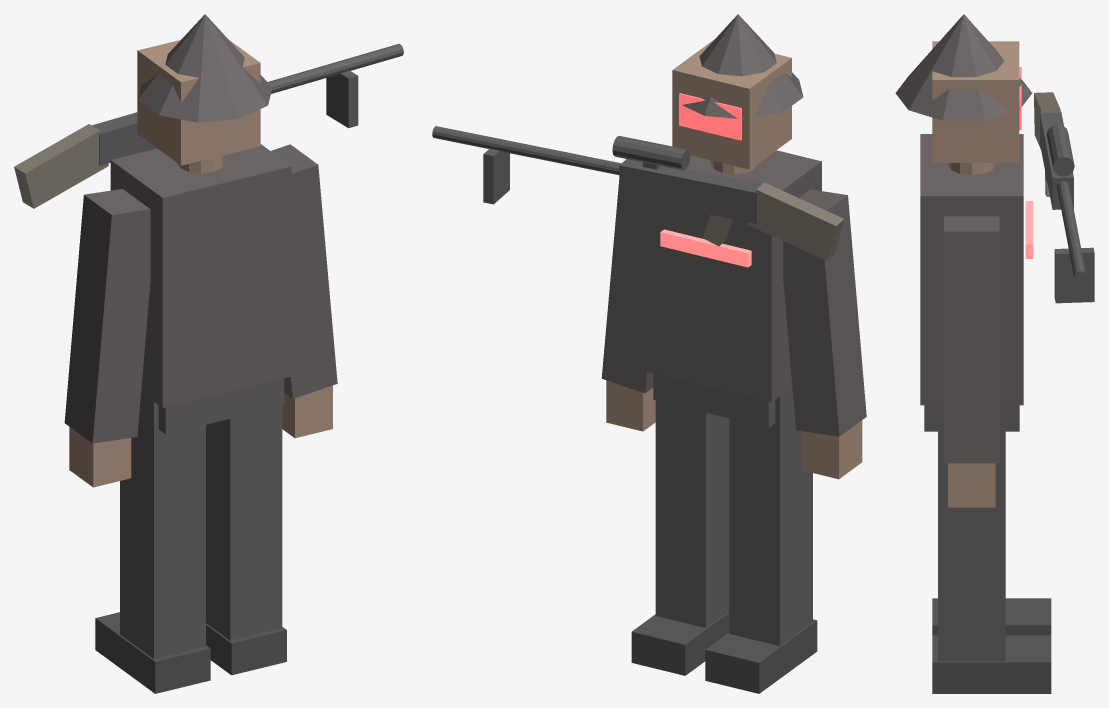
Rendered from guard_reaper.glb.
3 views of the same model, side by side, from view 1: azimuth 30°, elevation 25°; view 2: azimuth 150°, elevation 25°; view 3: azimuth 270°, elevation 25° (orthographic). The views are drawn at different scales.
Visible parts, largest first — view 1: guard_reaper_torso, guard_reaper_leg_L, guard_reaper_arm_L, guard_reaper_leg_R, guard_reaper_arm_R, guard_reaper_hood, guard_reaper_head, guard_reaper_shoe_L, reaper_rifle_stock, guard_reaper_pelvis, guard_reaper_shoe_R, guard_reaper_hand_L (+4 smaller); view 2: guard_reaper_torso, guard_reaper_leg_L, guard_reaper_leg_R, guard_reaper_arm_L, guard_reaper_head, guard_reaper_arm_R, reaper_rifle_body, guard_reaper_hood, guard_reaper_shoe_L, reaper_rifle_stock, guard_reaper_shoe_R, guard_reaper_pelvis (+8 smaller); view 3: guard_reaper_torso, guard_reaper_arm_R, guard_reaper_leg_R, guard_reaper_head, guard_reaper_hood, guard_reaper_shoe_R, guard_reaper_hand_R, guard_reaper_shoe_L, reaper_rifle_bipod, reaper_rifle_barrel, reaper_rifle_body, reaper_rifle_scope (+4 smaller).
Part boxes in pixels (x1=…): guard_reaper_torso: x1=110, y1=144, x2=291, y2=407; guard_reaper_leg_L: x1=120, y1=392, x2=205, y2=659; guard_reaper_arm_L: x1=64, y1=189, x2=150, y2=443; guard_reaper_leg_R: x1=206, y1=406, x2=282, y2=640; guard_reaper_arm_R: x1=271, y1=144, x2=337, y2=398; guard_reaper_hood: x1=137, y1=14, x2=272, y2=122; guard_reaper_head: x1=137, y1=39, x2=260, y2=165; guard_reaper_shoe_L: x1=95, y1=612, x2=210, y2=693; reaper_rifle_stock: x1=14, y1=124, x2=108, y2=208; guard_reaper_pelvis: x1=158, y1=378, x2=284, y2=434; guard_reaper_shoe_R: x1=206, y1=623, x2=286, y2=675; guard_reaper_hand_L: x1=69, y1=427, x2=131, y2=487; guard_reaper_torso: x1=646, y1=150, x2=821, y2=402; guard_reaper_leg_L: x1=729, y1=387, x2=812, y2=645; guard_reaper_leg_R: x1=655, y1=400, x2=729, y2=627; guard_reaper_arm_L: x1=783, y1=189, x2=866, y2=436; guard_reaper_head: x1=672, y1=39, x2=791, y2=169; guard_reaper_arm_R: x1=601, y1=180, x2=653, y2=393; reaper_rifle_body: x1=619, y1=159, x2=761, y2=223; guard_reaper_hood: x1=677, y1=14, x2=803, y2=119; guard_reaper_shoe_L: x1=705, y1=619, x2=817, y2=693; reaper_rifle_stock: x1=747, y1=182, x2=844, y2=260; guard_reaper_shoe_R: x1=631, y1=611, x2=729, y2=675; guard_reaper_pelvis: x1=653, y1=373, x2=775, y2=427; guard_reaper_torso: x1=920, y1=134, x2=1023, y2=405; guard_reaper_arm_R: x1=944, y1=216, x2=999, y2=463; guard_reaper_leg_R: x1=938, y1=405, x2=1005, y2=661; guard_reaper_head: x1=932, y1=41, x2=1019, y2=162; guard_reaper_hood: x1=895, y1=14, x2=1032, y2=120; guard_reaper_shoe_R: x1=932, y1=635, x2=1051, y2=693; guard_reaper_hand_R: x1=948, y1=463, x2=995, y2=507; guard_reaper_shoe_L: x1=932, y1=598, x2=1051, y2=635; reaper_rifle_bipod: x1=1054, y1=247, x2=1094, y2=303; reaper_rifle_barrel: x1=1057, y1=181, x2=1086, y2=282; reaper_rifle_body: x1=1040, y1=112, x2=1073, y2=209; reaper_rifle_scope: x1=1046, y1=124, x2=1074, y2=176.
Bounding box in the file's own units: 1.18 × 1.84 × 0.5113.
